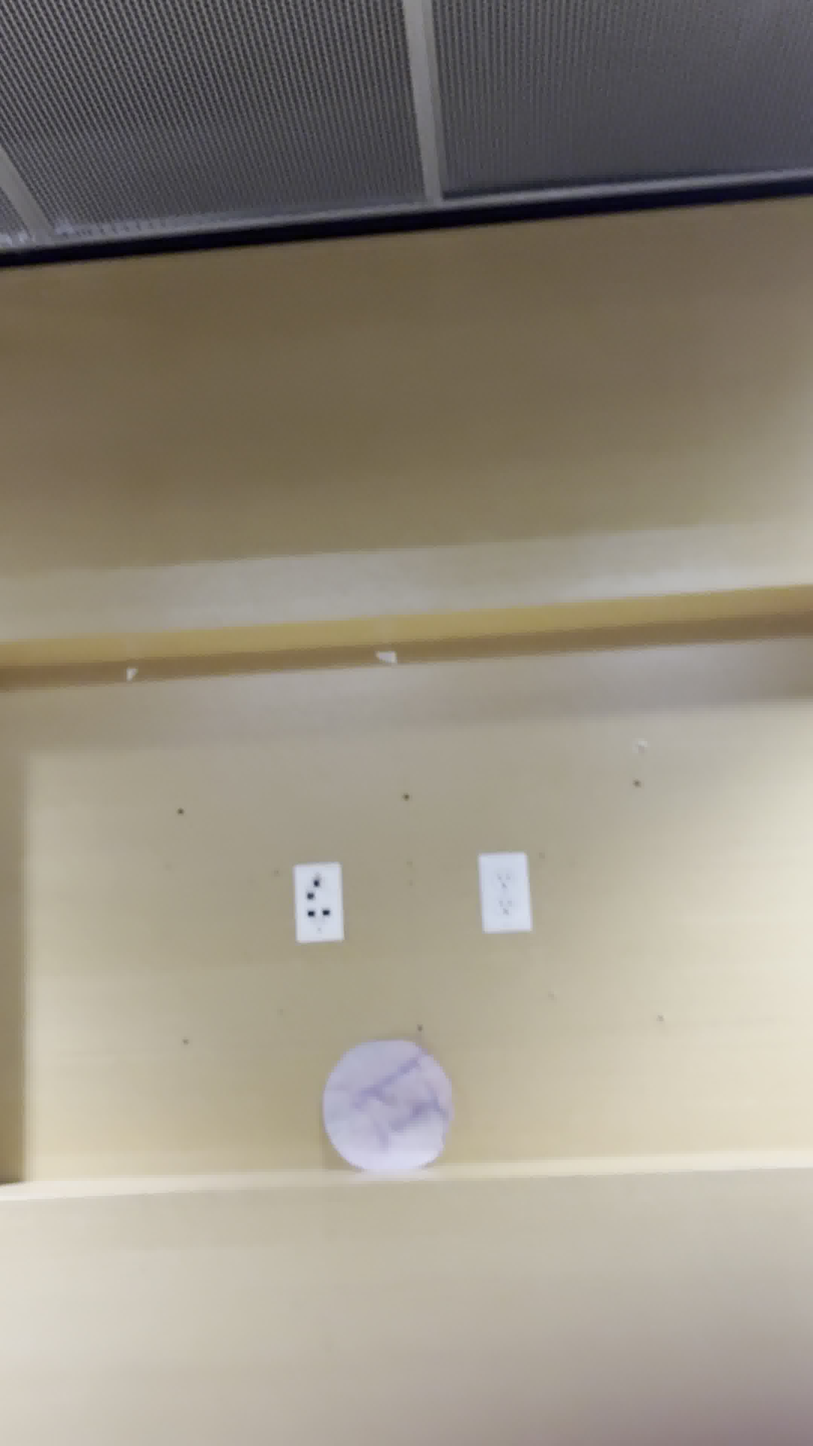Target: (316, 1043, 454, 1167)
